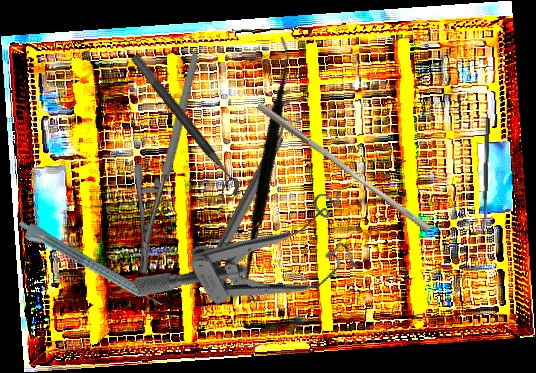Fixation Ring: (195, 98, 309, 279), (119, 53, 245, 204)
Handpiece: (13, 217, 165, 316)
Needle Holder: (75, 50, 264, 279)
Pusher: (251, 102, 436, 234)
Spatula Surgical: (159, 34, 379, 305)
Speculum: (131, 170, 378, 368)
Surgical Spoon: (480, 117, 491, 236)
